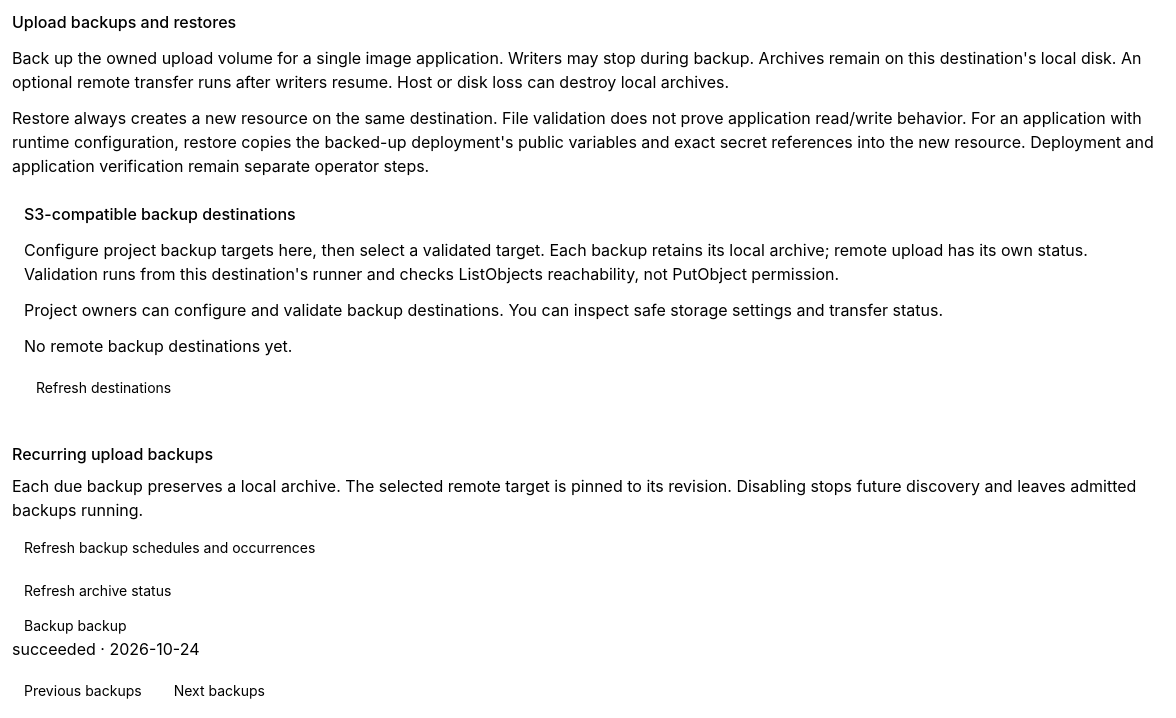
Test: viewer reads history, selected safe progress and known restore details without write controls
Expected: the button "Refresh archive status" is enabled, x1=12 y1=581 x2=183 y2=601
Click the button "Backup backup" at (75, 626), box x1=12 y1=616 x2=139 y2=636
(page scrolled)
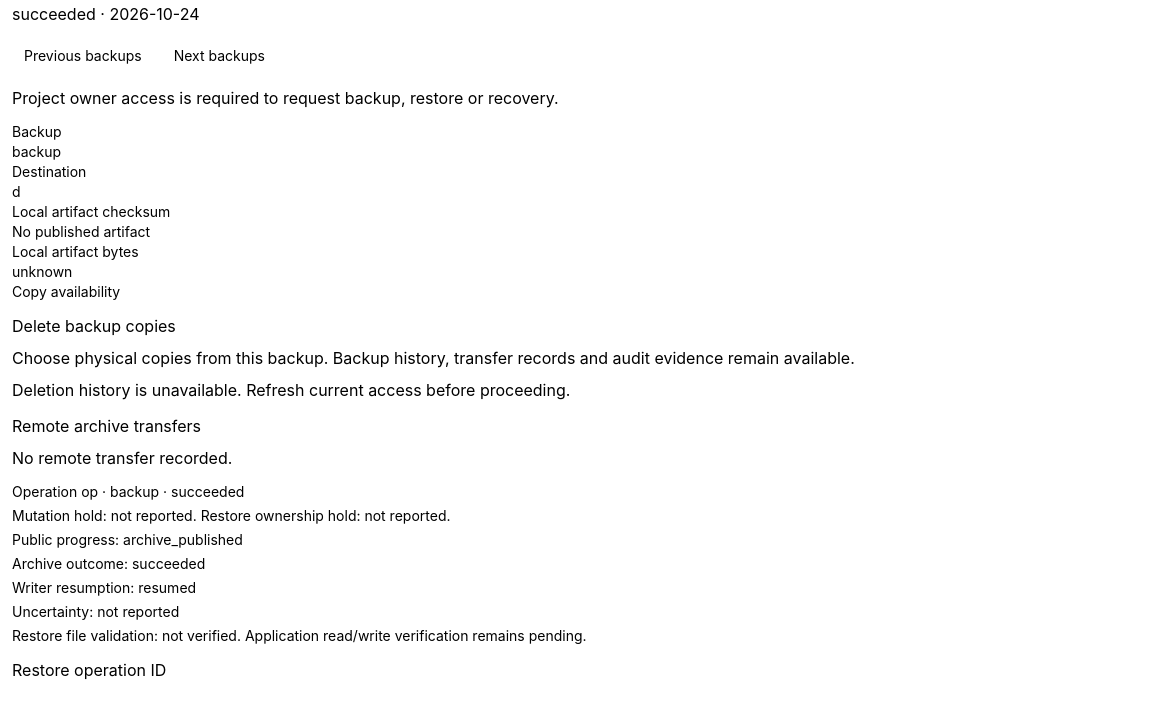
Result: the text "Archive outcome: succeeded" is shown at x1=12 y1=555 x2=205 y2=572
